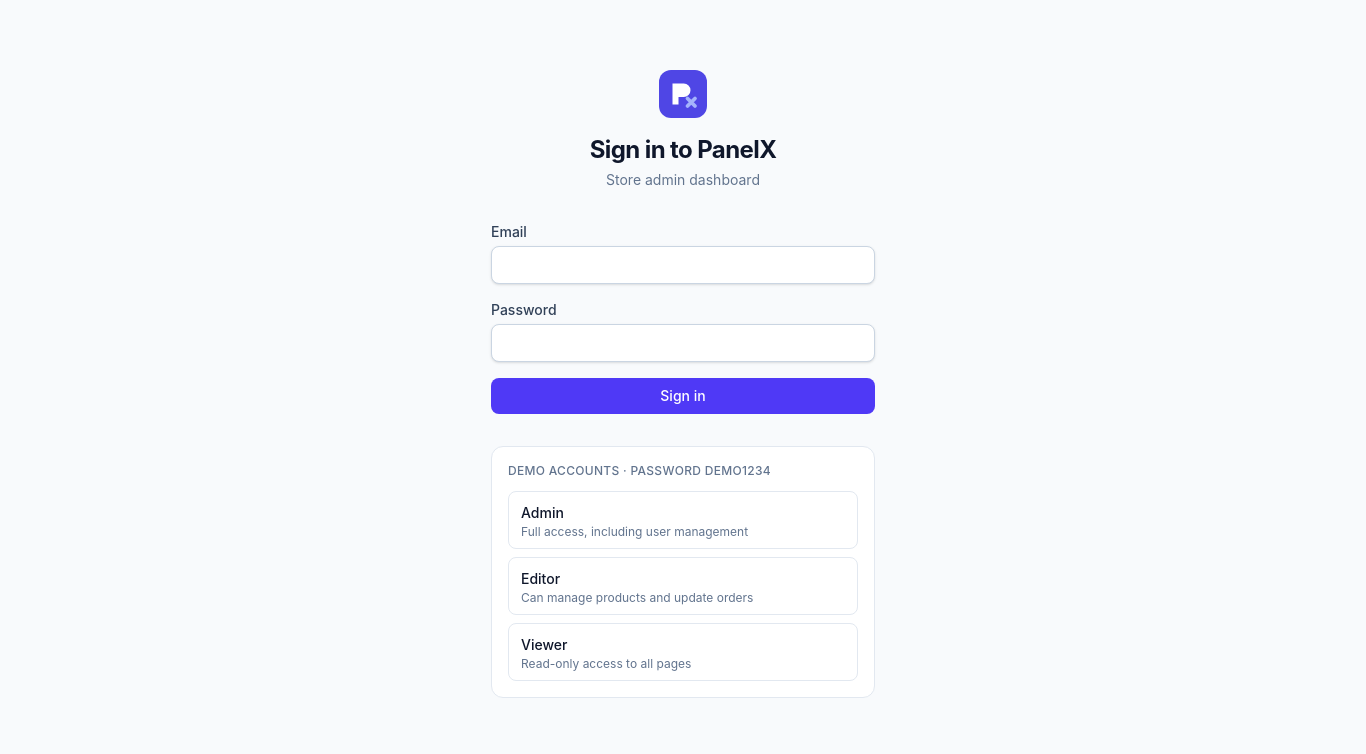
Test: login › redirects to login, signs in and shows the dashboard
This screenshot has width=1366, height=754.
Expected: the heading "Sign in to PanelX" is shown, top-left (590, 135), bottom-right (776, 164)
Type "editor@panelx.dev" into the field labelled "Email" at (683, 265), box top-left (491, 246), bottom-right (875, 284)
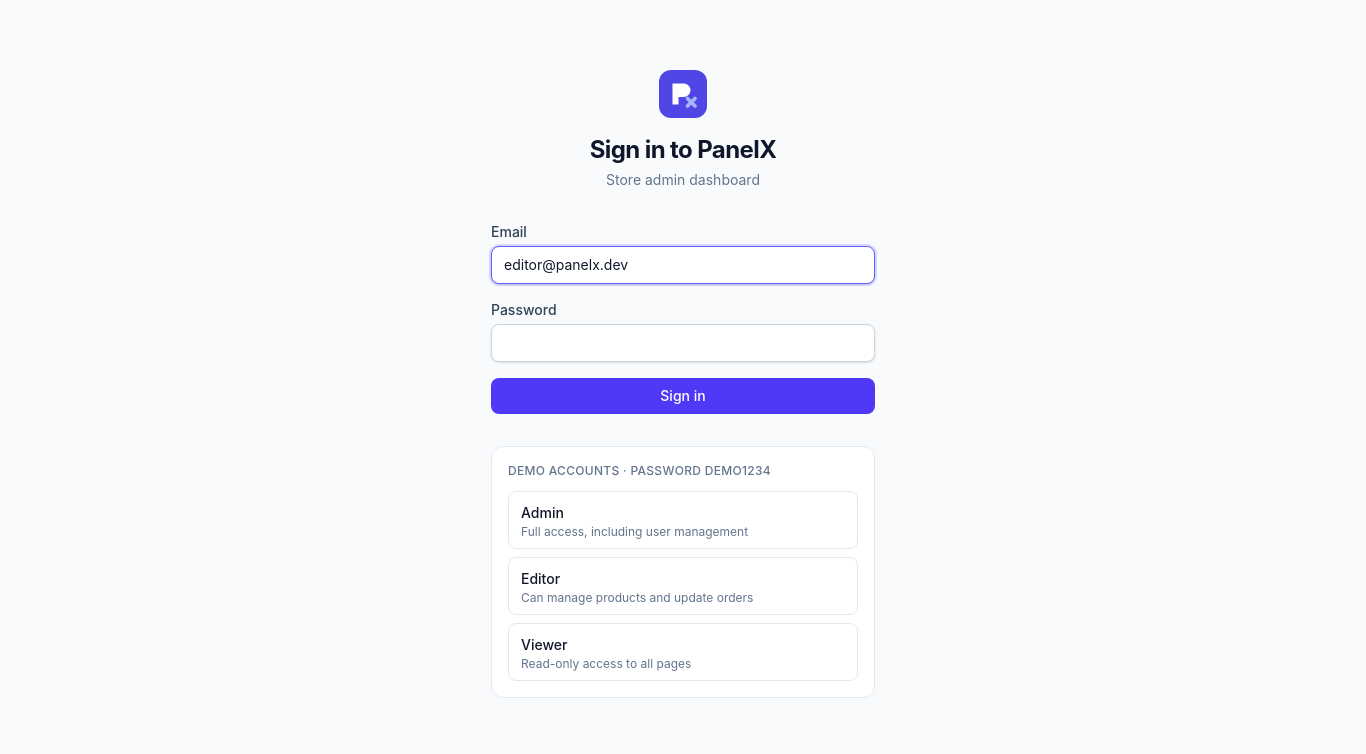
Type "demo1234" into the password field labelled "Password" at (683, 343), box top-left (491, 324), bottom-right (875, 362)
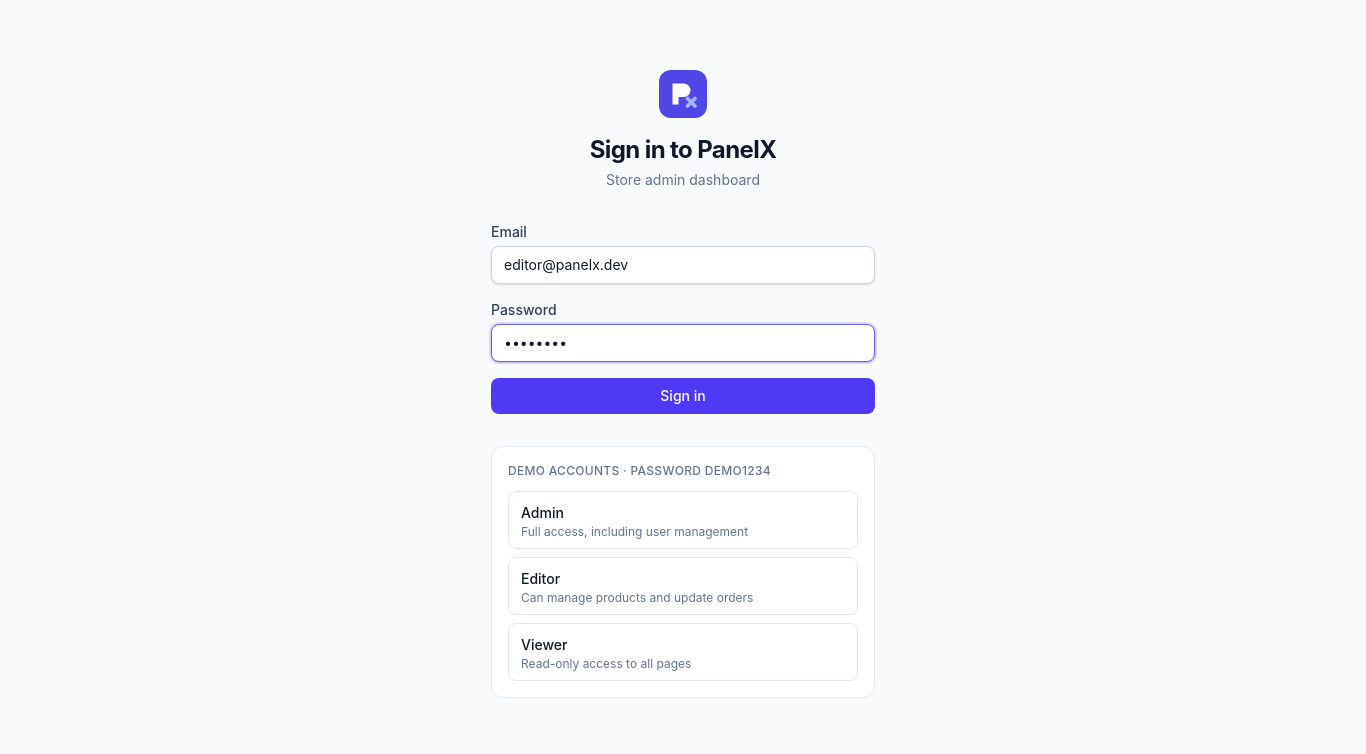
Click the button "Sign in" at (683, 396), box top-left (491, 378), bottom-right (875, 414)
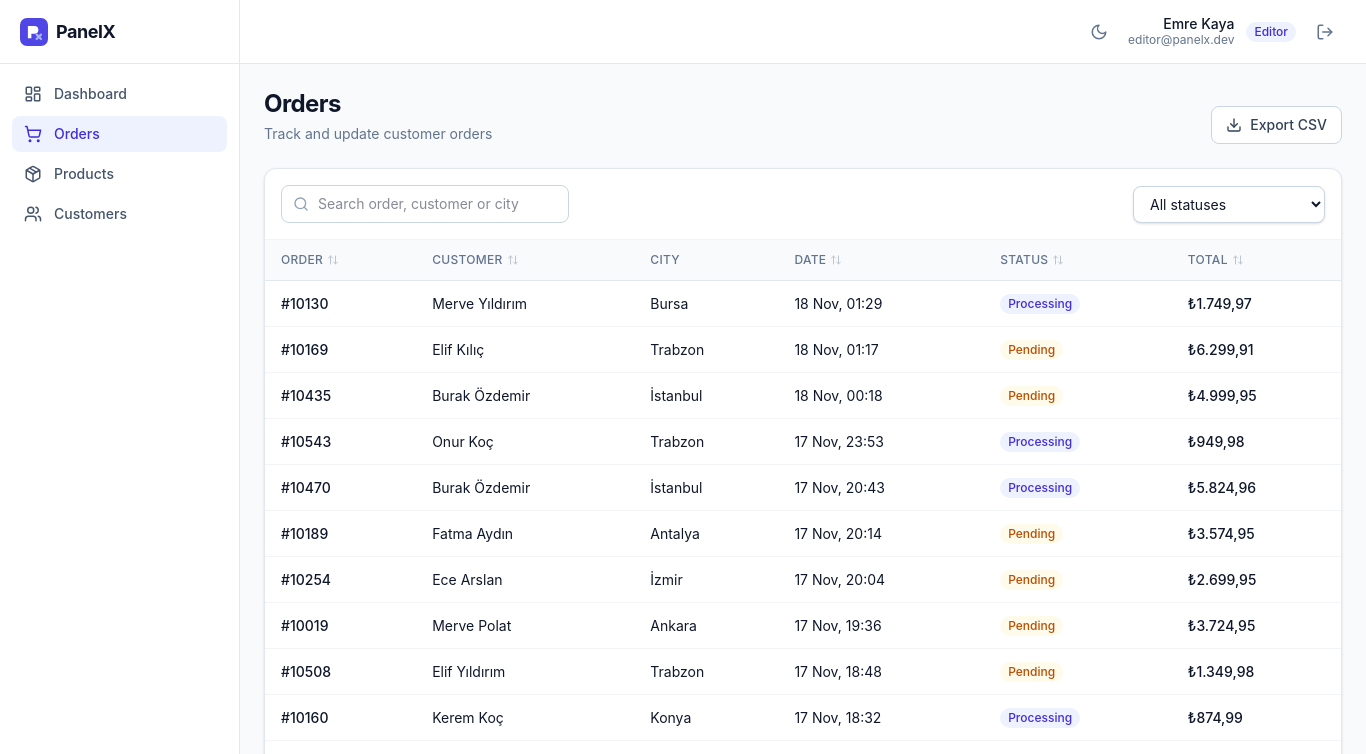
Expected: the heading "Orders" is shown, top-left (264, 89), bottom-right (341, 118)
